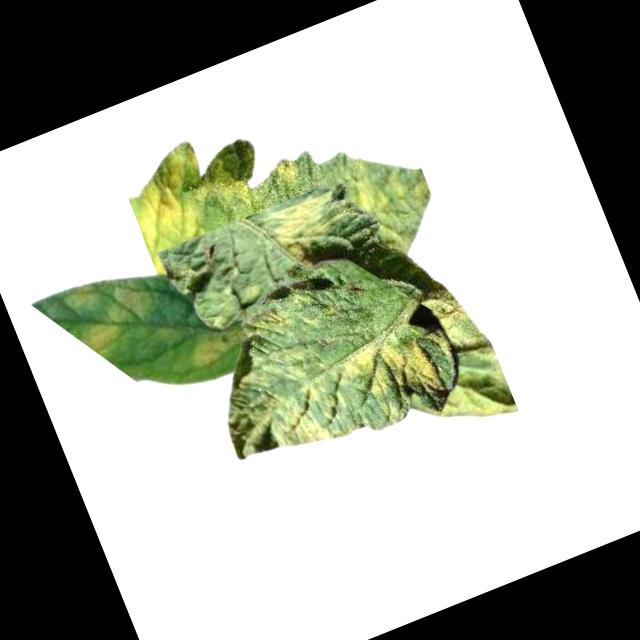Leaf_Mold: (113, 123, 257, 257), (339, 135, 450, 265), (332, 318, 451, 436), (59, 273, 166, 359), (263, 187, 353, 275), (254, 377, 341, 461), (411, 274, 474, 340), (182, 316, 250, 373), (245, 301, 293, 343), (268, 152, 306, 192), (57, 280, 99, 316)
